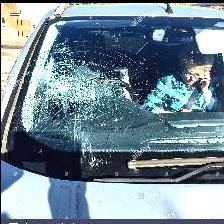glass_shatter: (26, 31, 159, 156)
